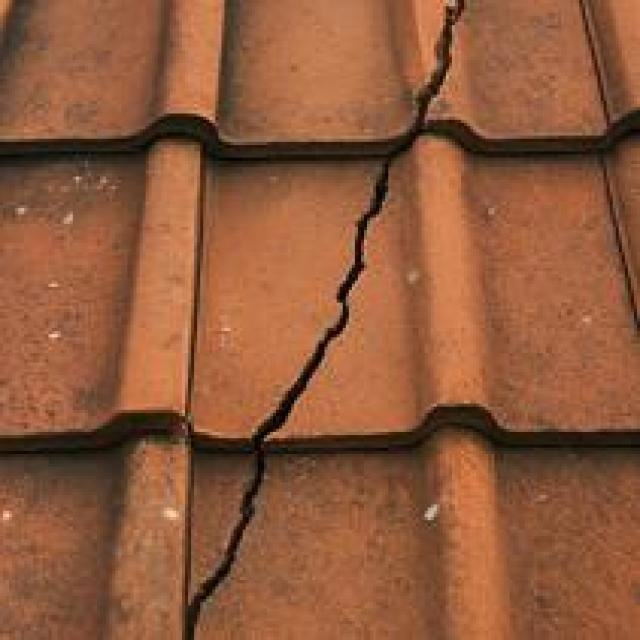fissure: (170, 6, 474, 640)
